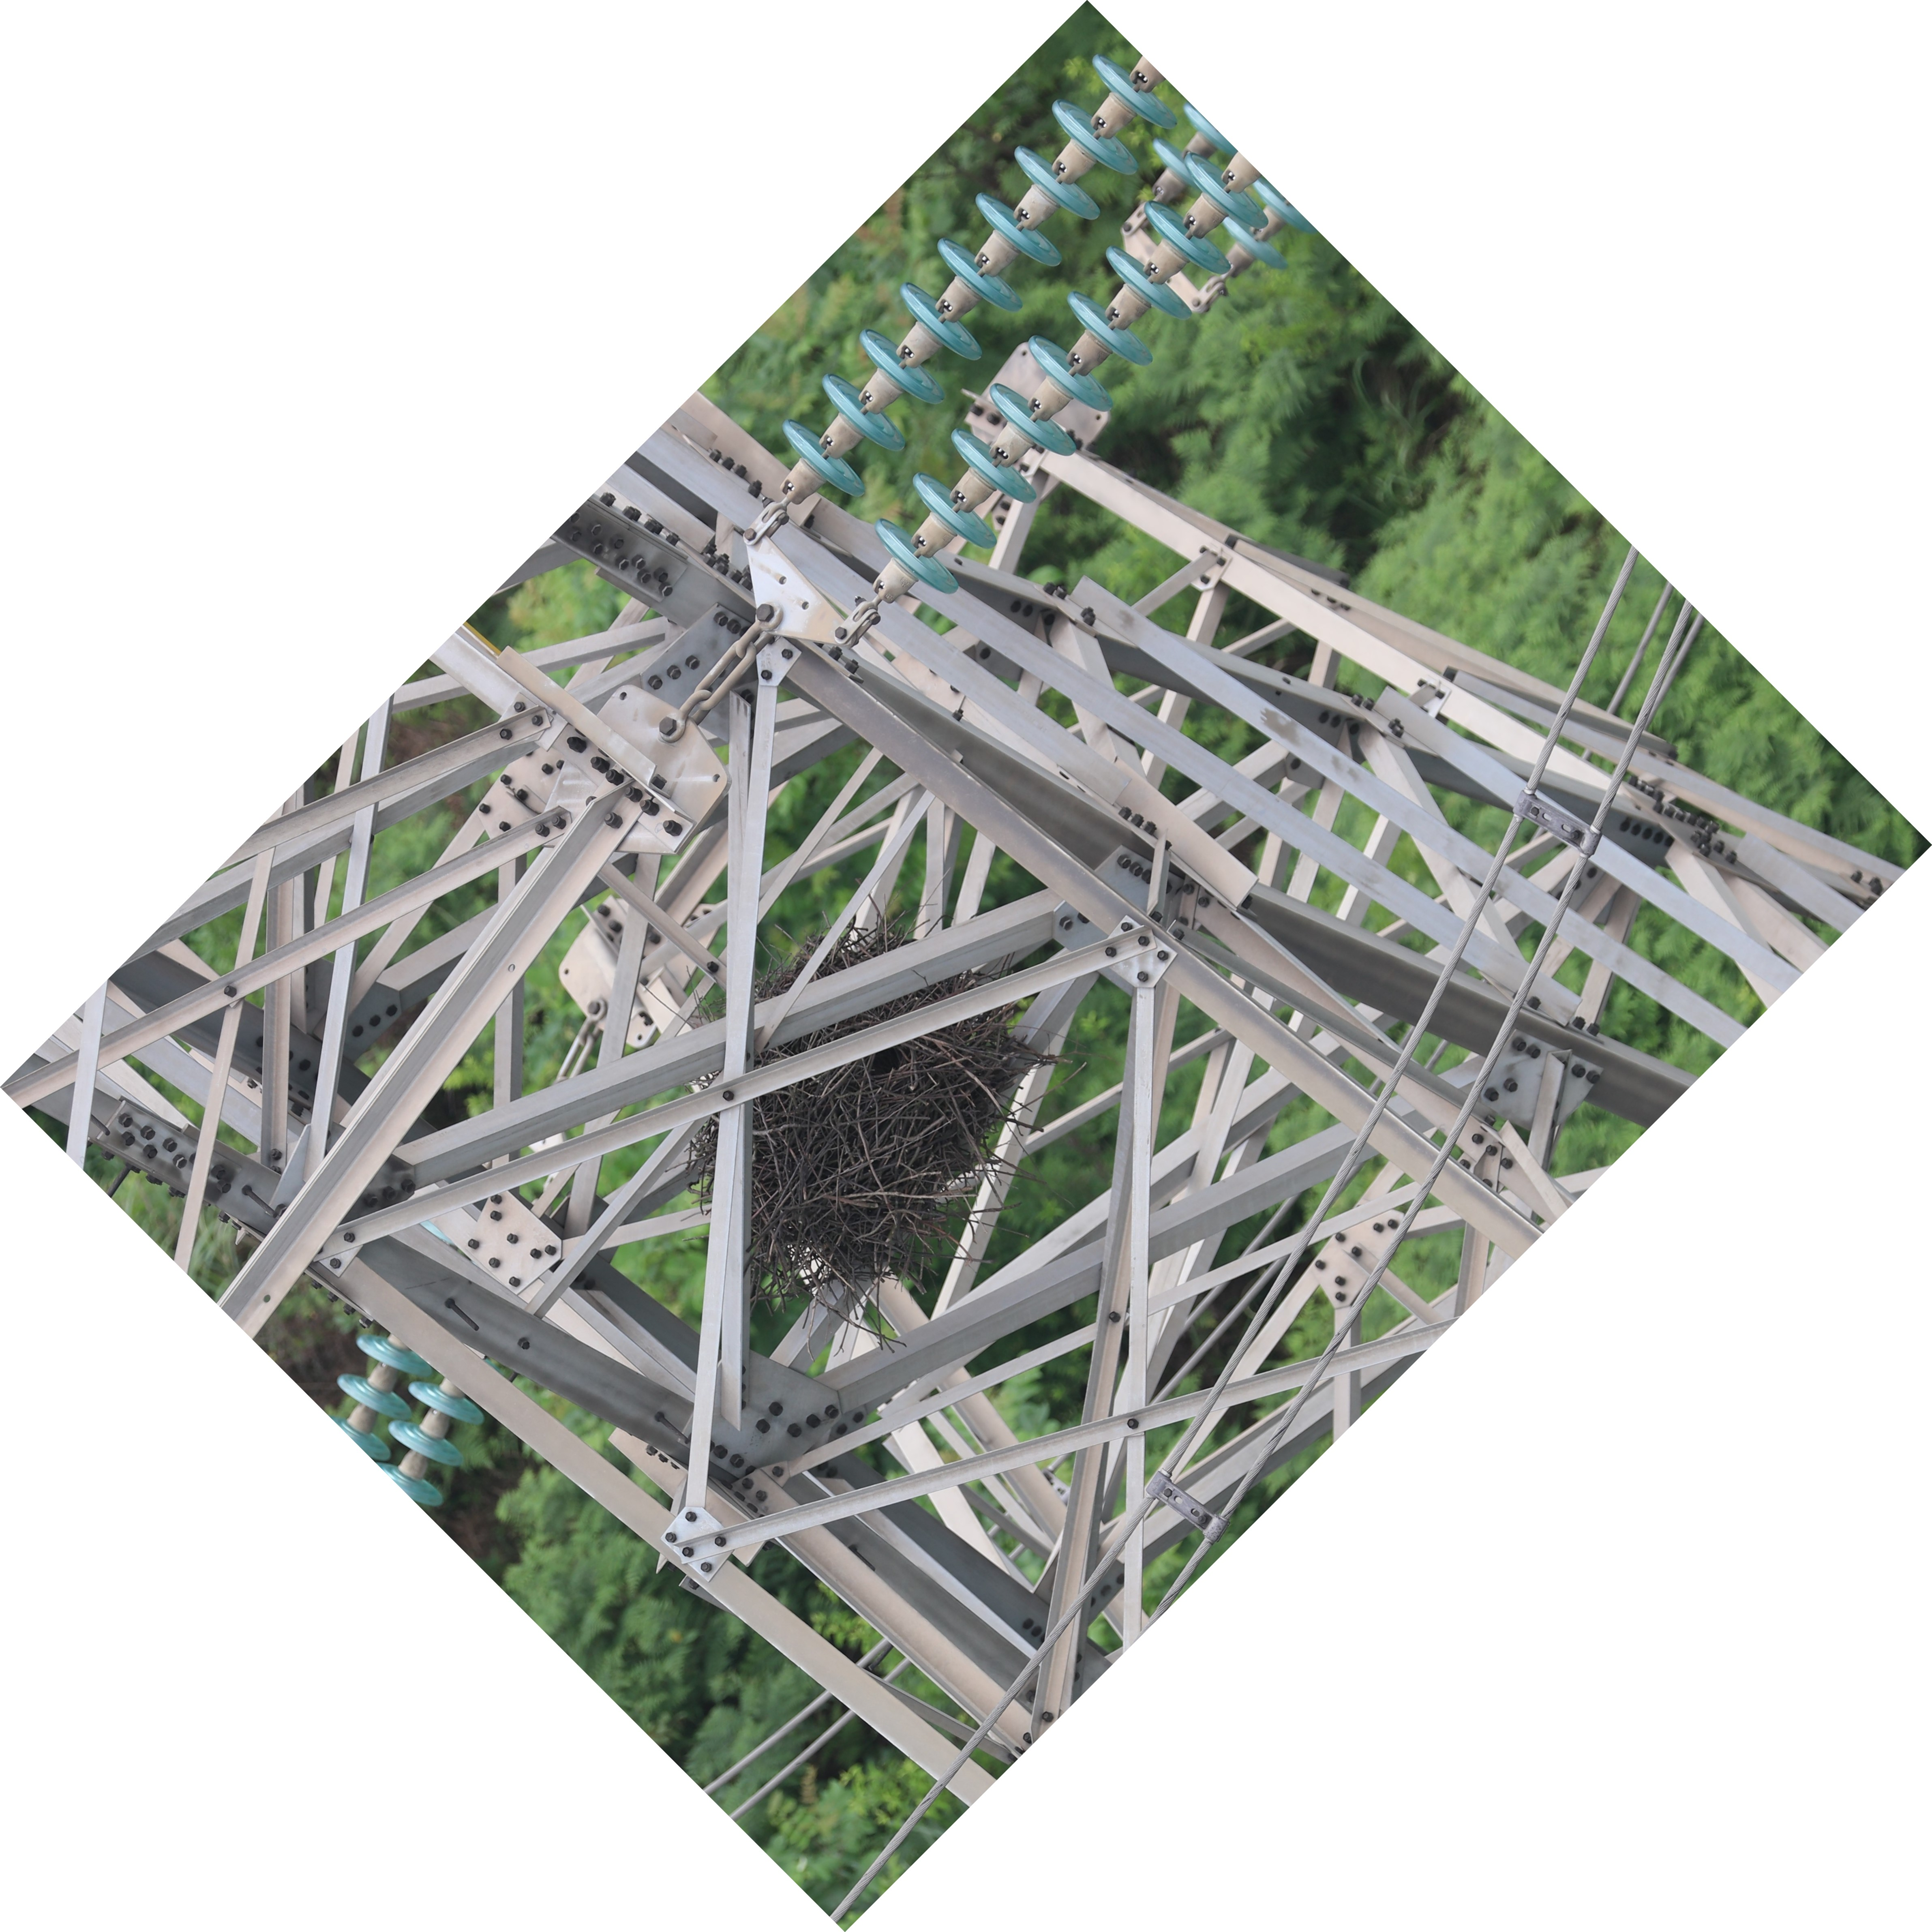niaowo: (671, 916, 1058, 1297)
